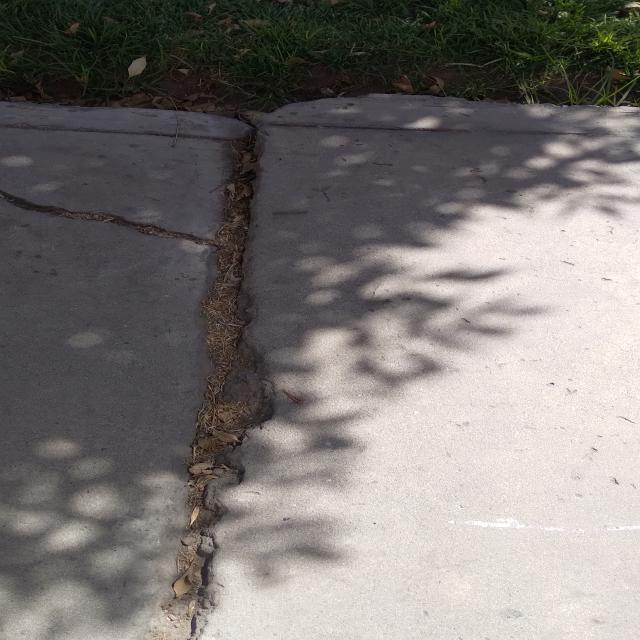hole: (172, 111, 291, 637)
